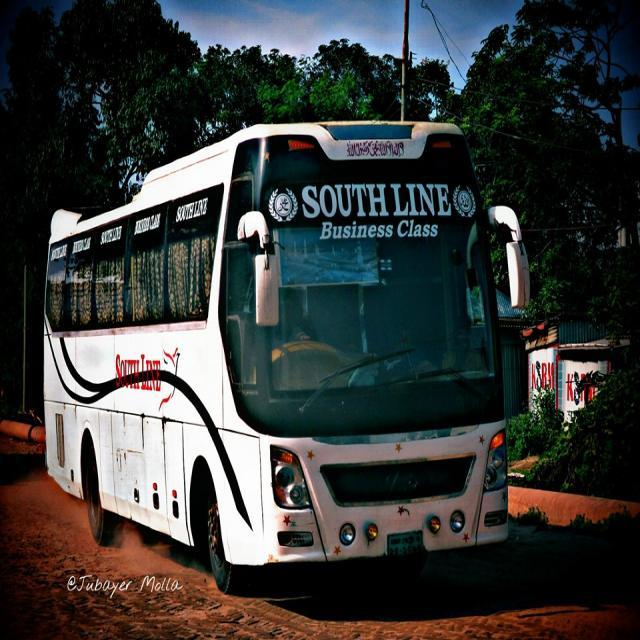bus: (43, 117, 532, 596)
